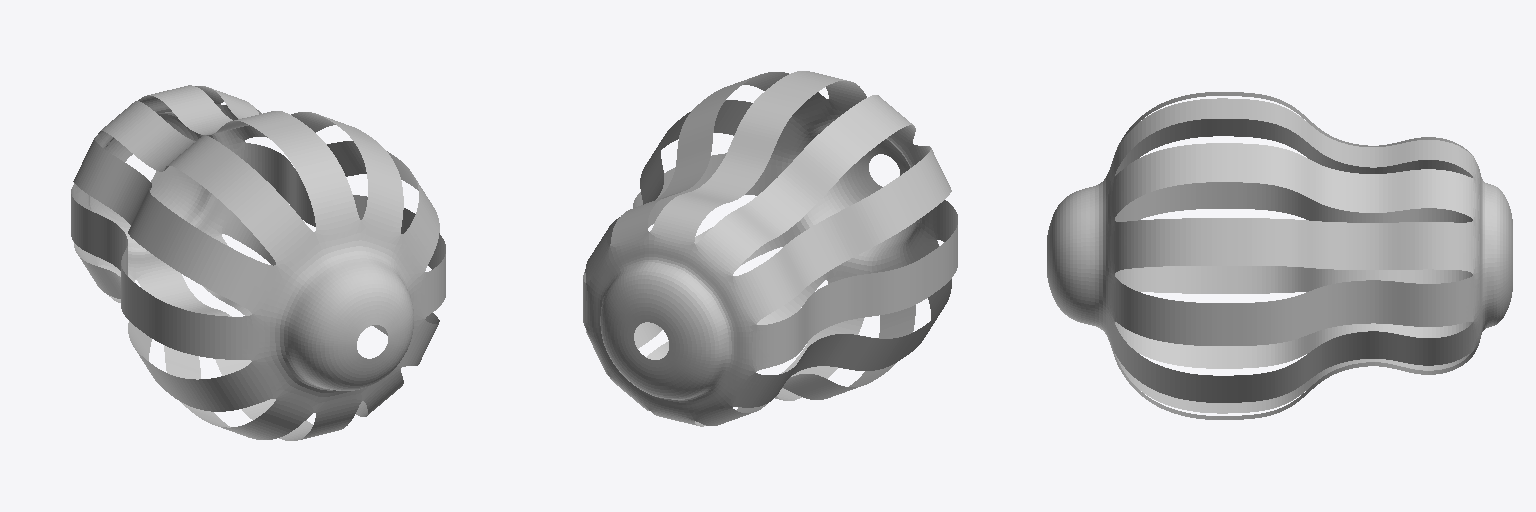
File: lamp-sub2.obj
3 views of the same model, side by side, from view 1: azimuth 30°, elevation 25°; view 2: azimuth 150°, elevation 25°; view 3: azimuth 270°, elevation 25° (orthographic).
Visible parts, largest first — view 1: Plane; view 2: Plane; view 3: Plane.
Boxes of the visible parts, x1=… form: Plane: x1=71, y1=85, x2=445, y2=440; Plane: x1=583, y1=71, x2=957, y2=426; Plane: x1=1047, y1=92, x2=1512, y2=419.
Bounding box in the file's own units: 5.71 × 5.71 × 8.18.